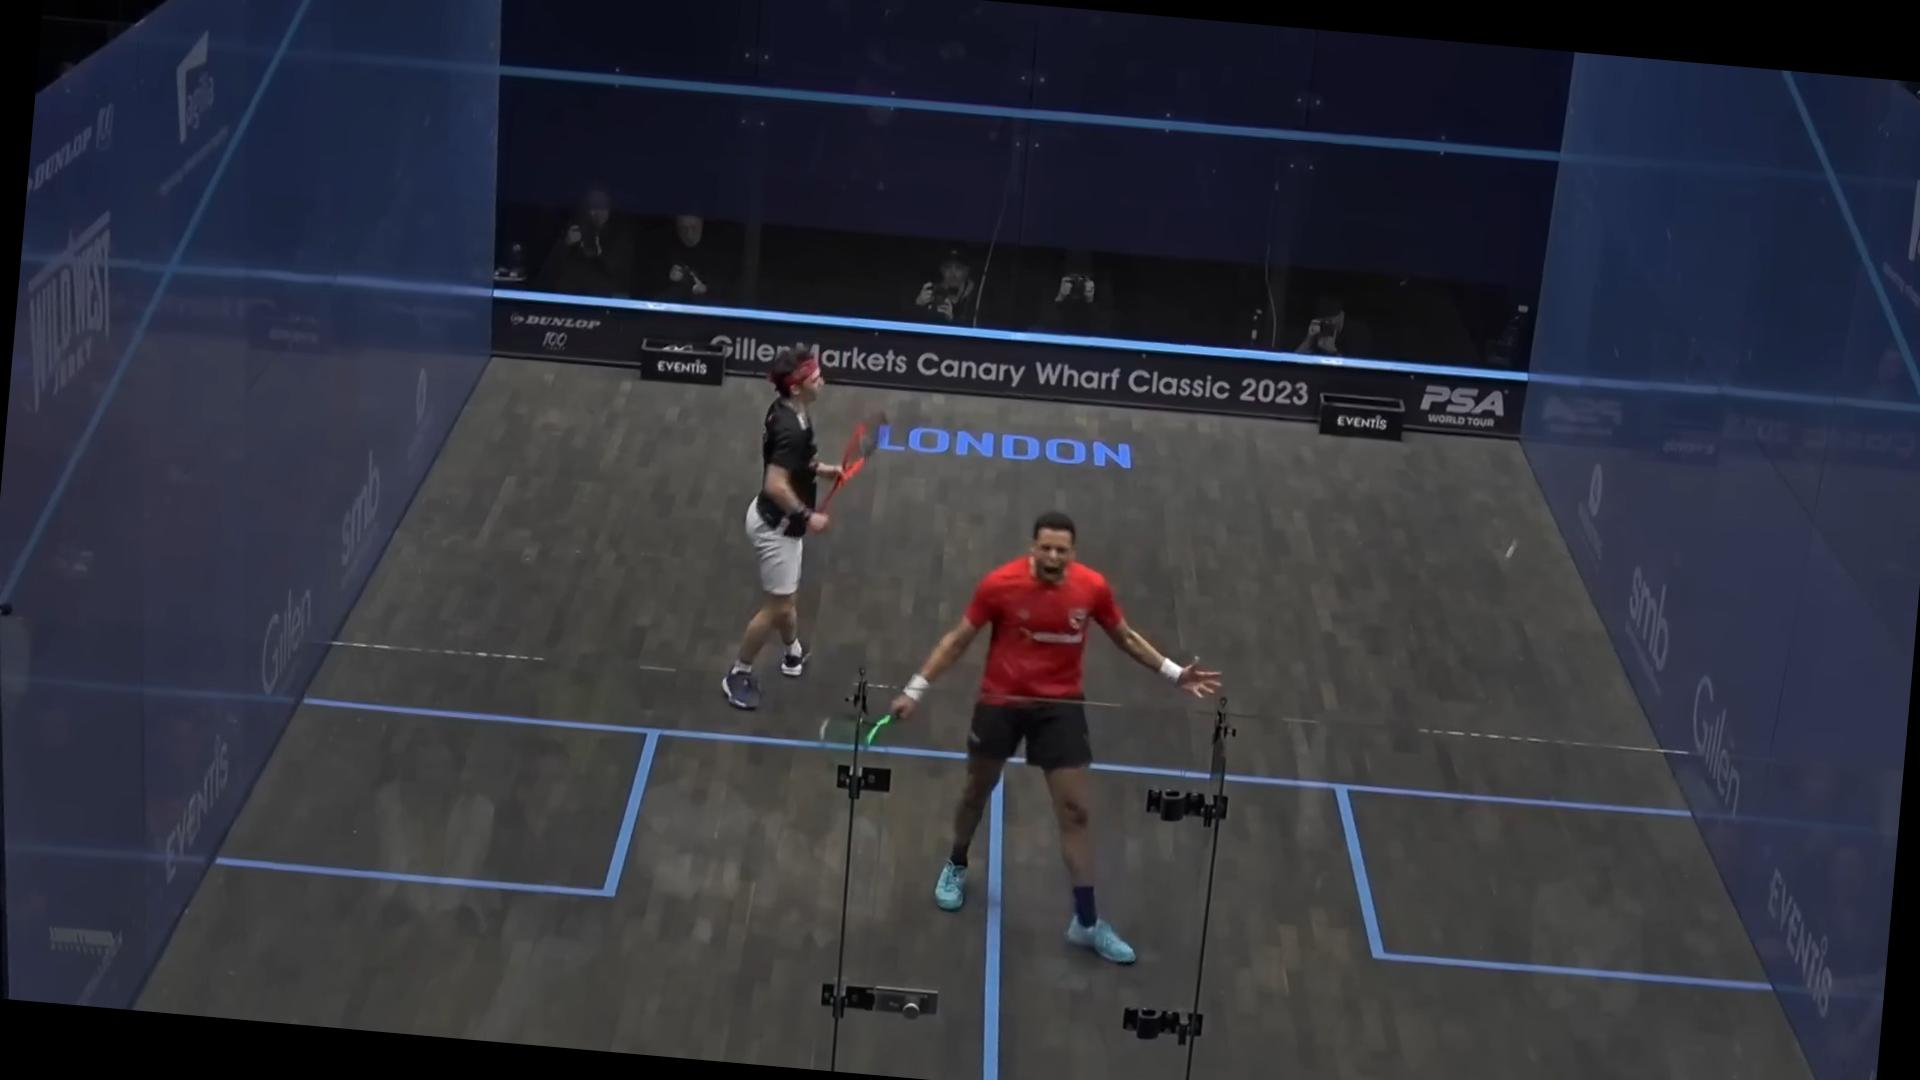Racket: (822, 401, 891, 516)
